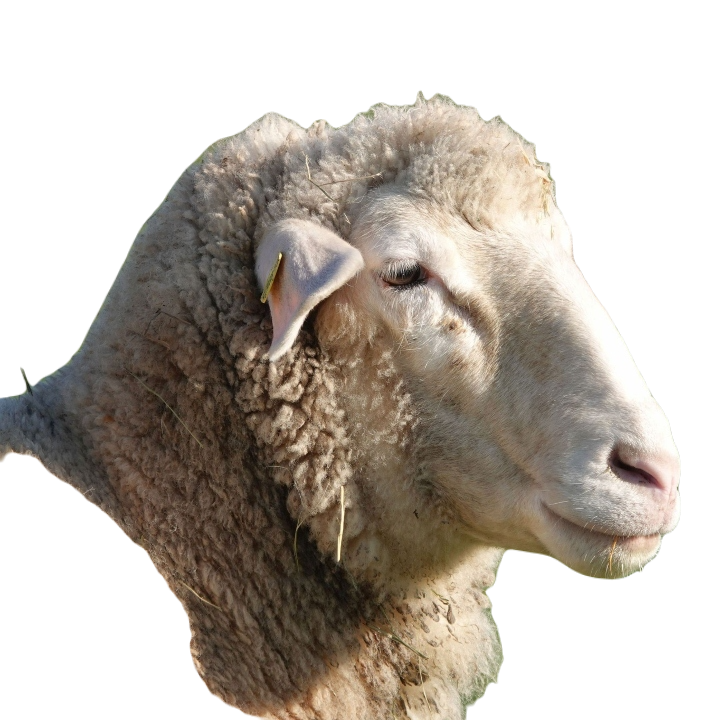Sheep: (0, 88, 686, 719)
